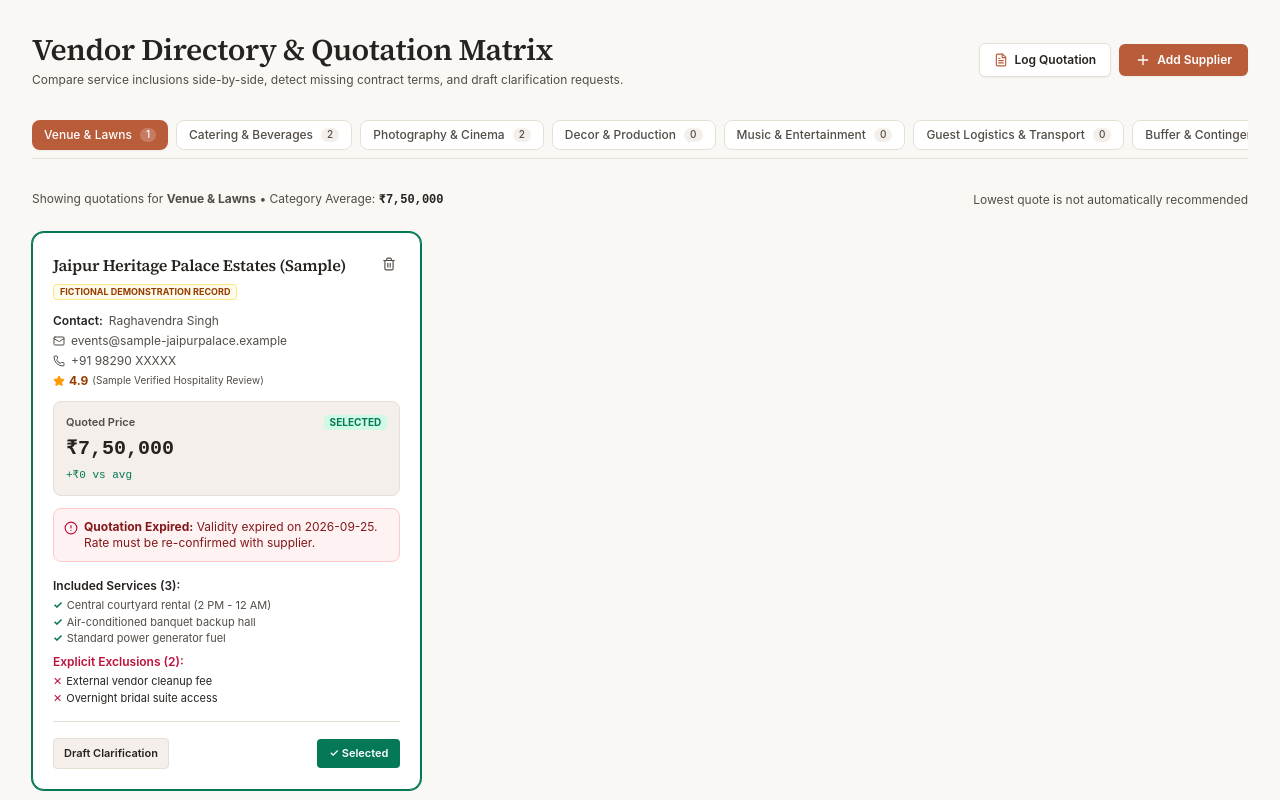
Test case: Vendor Coordination & Safe Message Dispatch (Finding B) › provides copy fallback with clipboard and records audit trace
Click the button with aria-label "Draft clarification message" at (111, 754), box [53,738,169,769]
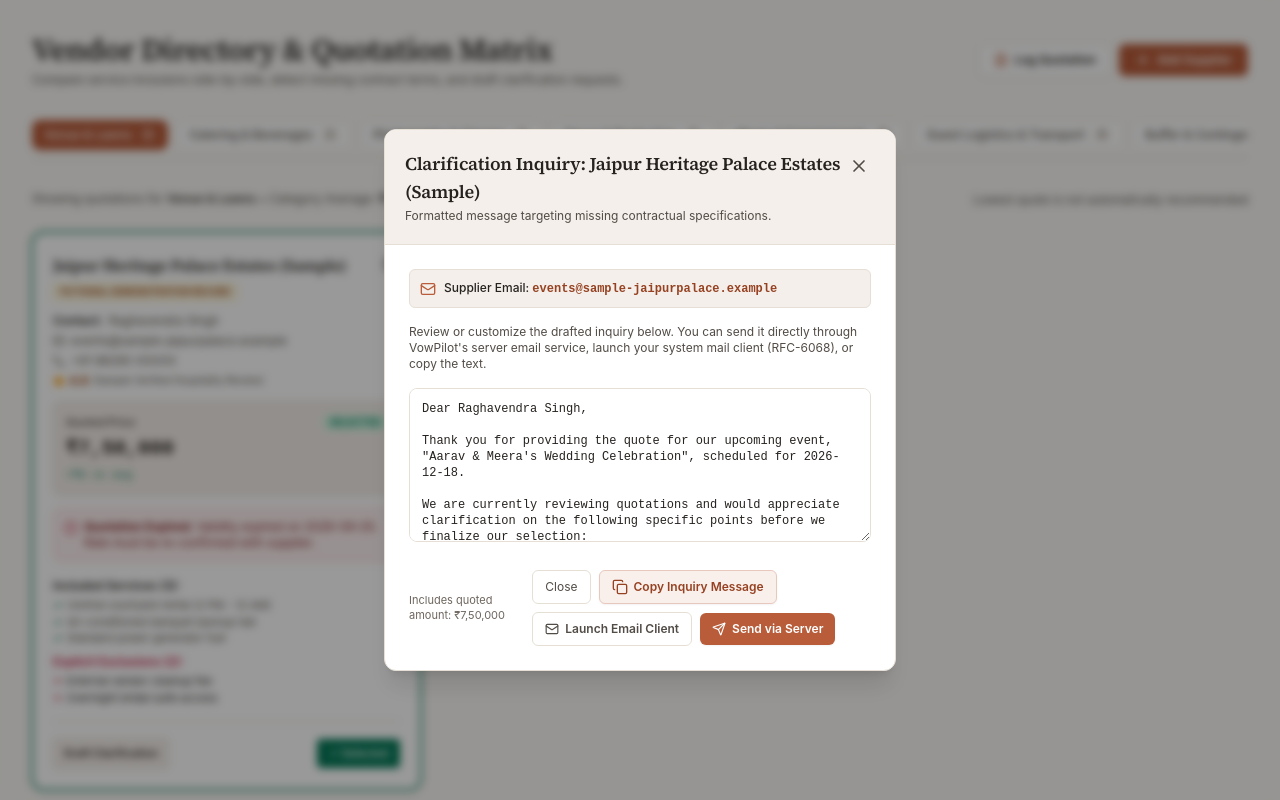
Click the button "Copy Inquiry Message" at (688, 587), box [598,570,776,604]
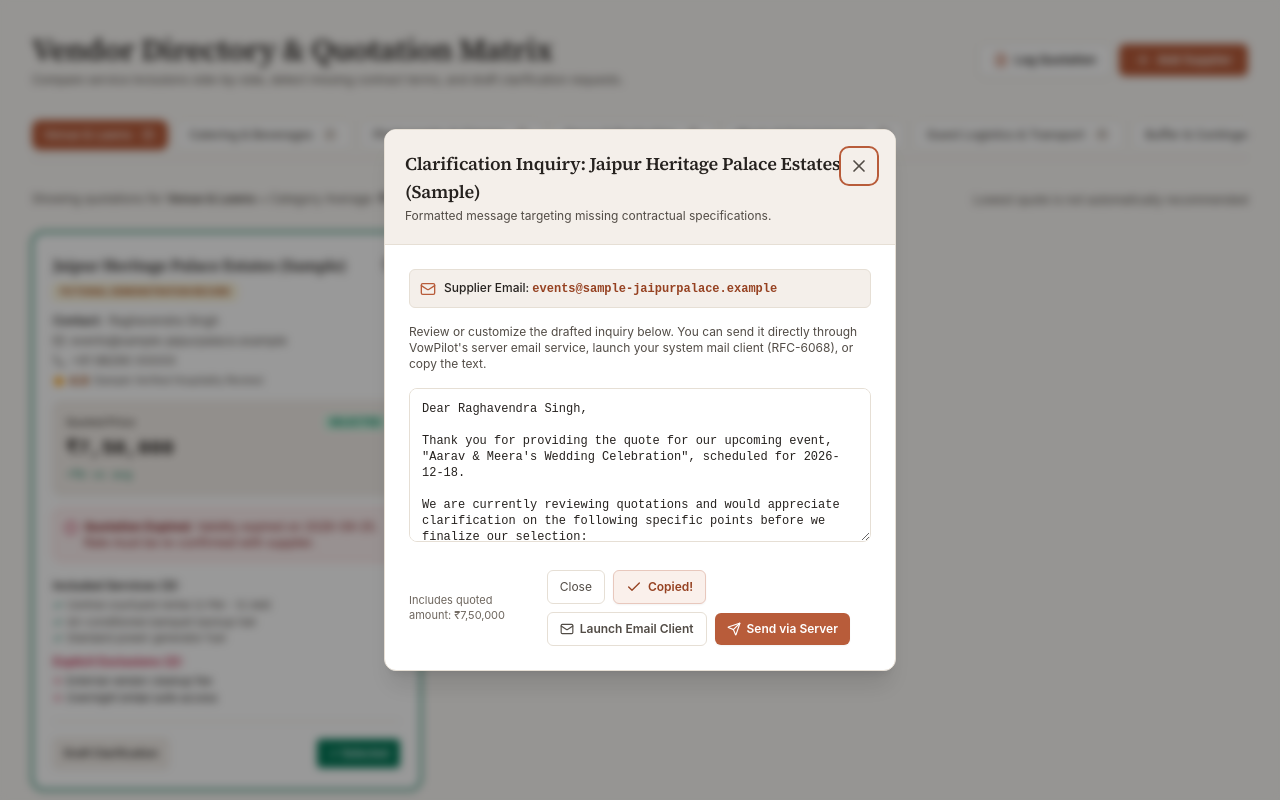
Expected: the button "Copied!" is shown, [613,570,706,604]
